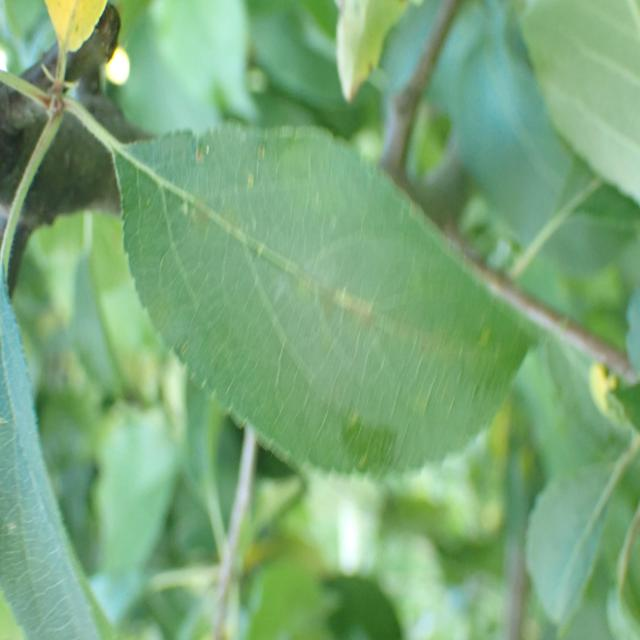scab: (127, 114, 493, 417)
